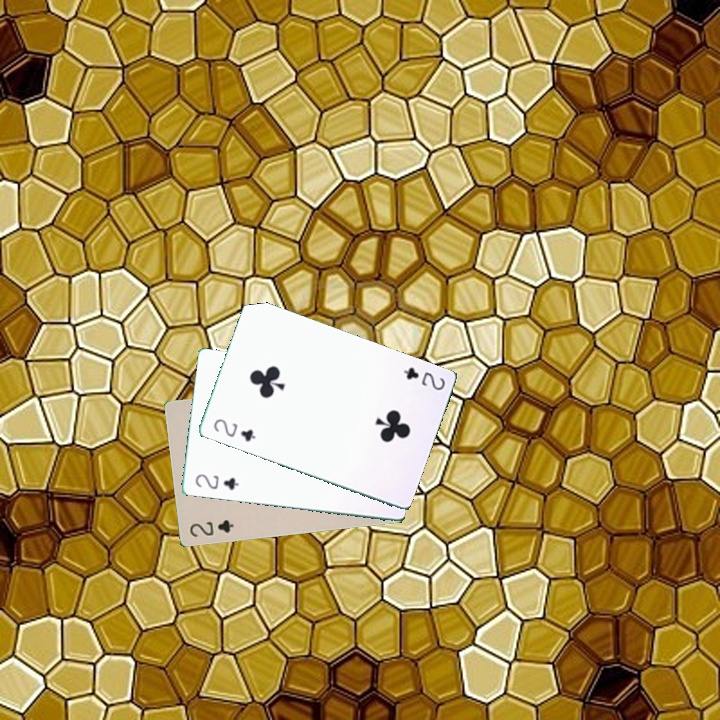2c: (209, 414, 258, 445), (399, 363, 448, 393), (185, 516, 236, 540), (191, 470, 241, 493)
